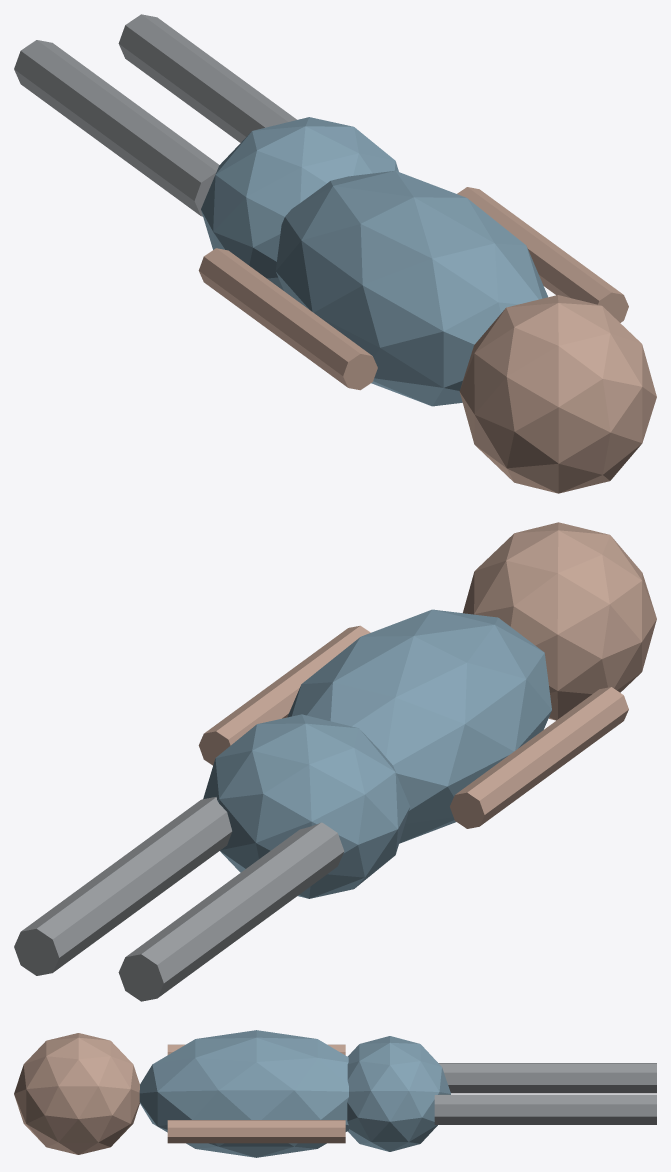
File: adolescent-low.glb
3 views of the same model, one above another, from view 1: azimuth 30°, elevation 25°; view 2: azimuth 150°, elevation 25°; view 3: azimuth 270°, elevation 25° (orthographic). The views are drawn at different scales.
Visible parts, largest first — view 1: torso, head, pelvis, left_leg, right_leg, left_arm, right_arm; view 2: torso, pelvis, head, left_leg, right_leg, left_arm, right_arm; view 3: torso, head, pelvis, right_leg, left_leg, right_arm, left_arm.
Boxes of the visible parts, bbox=[...] form: torso: bbox=[275, 170, 547, 406]; head: bbox=[459, 295, 656, 493]; pelvis: bbox=[201, 117, 398, 290]; left_leg: bbox=[14, 40, 219, 216]; right_leg: bbox=[118, 14, 296, 142]; left_arm: bbox=[198, 248, 377, 390]; right_arm: bbox=[457, 187, 628, 322]; torso: bbox=[287, 609, 551, 843]; pelvis: bbox=[203, 714, 410, 898]; head: bbox=[463, 522, 656, 720]; left_leg: bbox=[118, 822, 344, 1001]; right_leg: bbox=[14, 797, 232, 975]; left_arm: bbox=[450, 687, 628, 828]; right_arm: bbox=[198, 625, 370, 765]; torso: bbox=[139, 1030, 348, 1157]; head: bbox=[14, 1033, 139, 1154]; pelvis: bbox=[347, 1036, 450, 1151]; right_leg: bbox=[434, 1094, 656, 1124]; left_leg: bbox=[438, 1063, 656, 1093]; right_arm: bbox=[167, 1120, 345, 1143]; left_arm: bbox=[167, 1044, 345, 1055].
Size of the model in its own units: 0.9512 by 0.5808 by 3.01.
